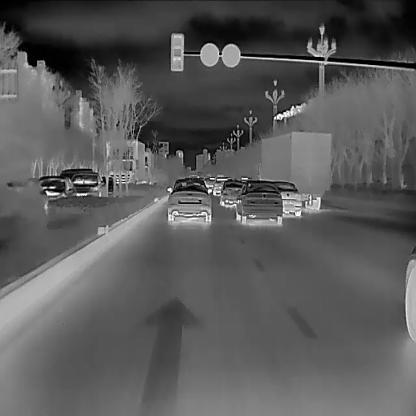car: (260, 129, 332, 210), (234, 179, 284, 226), (167, 179, 211, 223), (105, 141, 145, 187), (37, 176, 77, 210), (68, 171, 108, 204), (274, 180, 302, 216), (219, 180, 244, 207), (213, 176, 230, 194)
